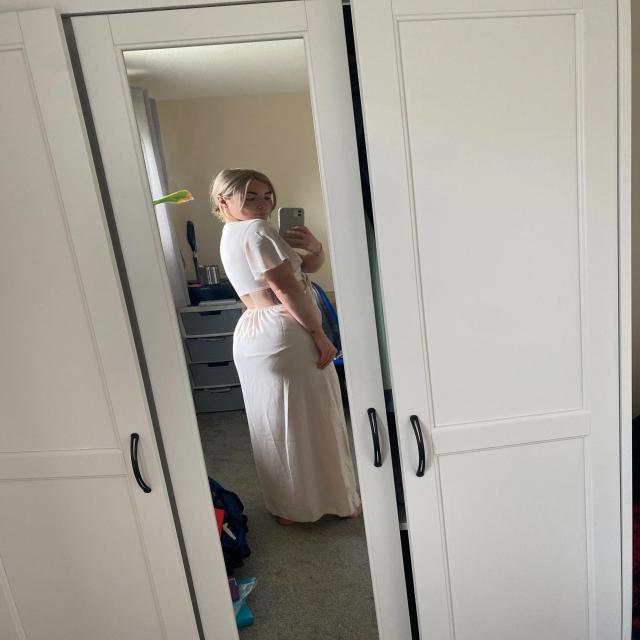clothes: (178, 218, 392, 546)
